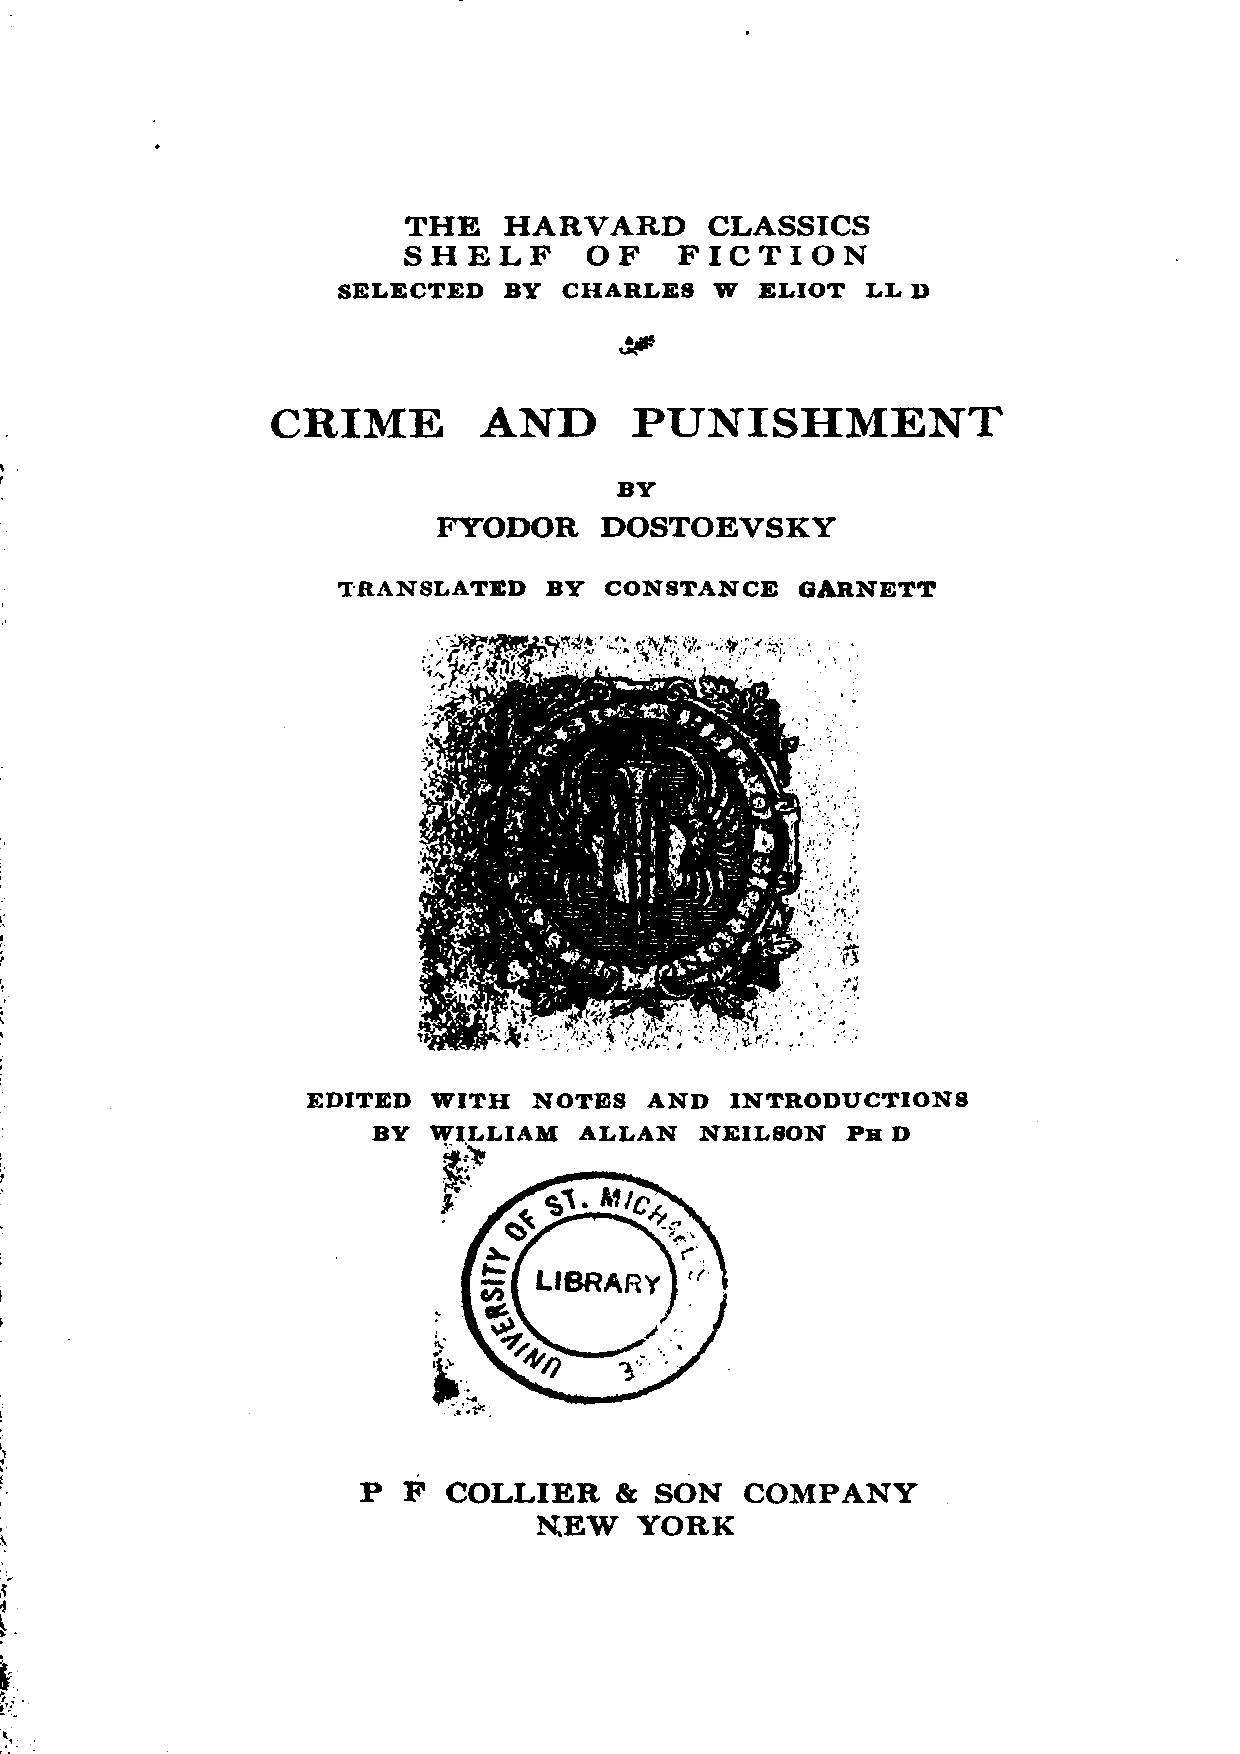author: (432, 478, 833, 539)
title: (267, 403, 1006, 442)
